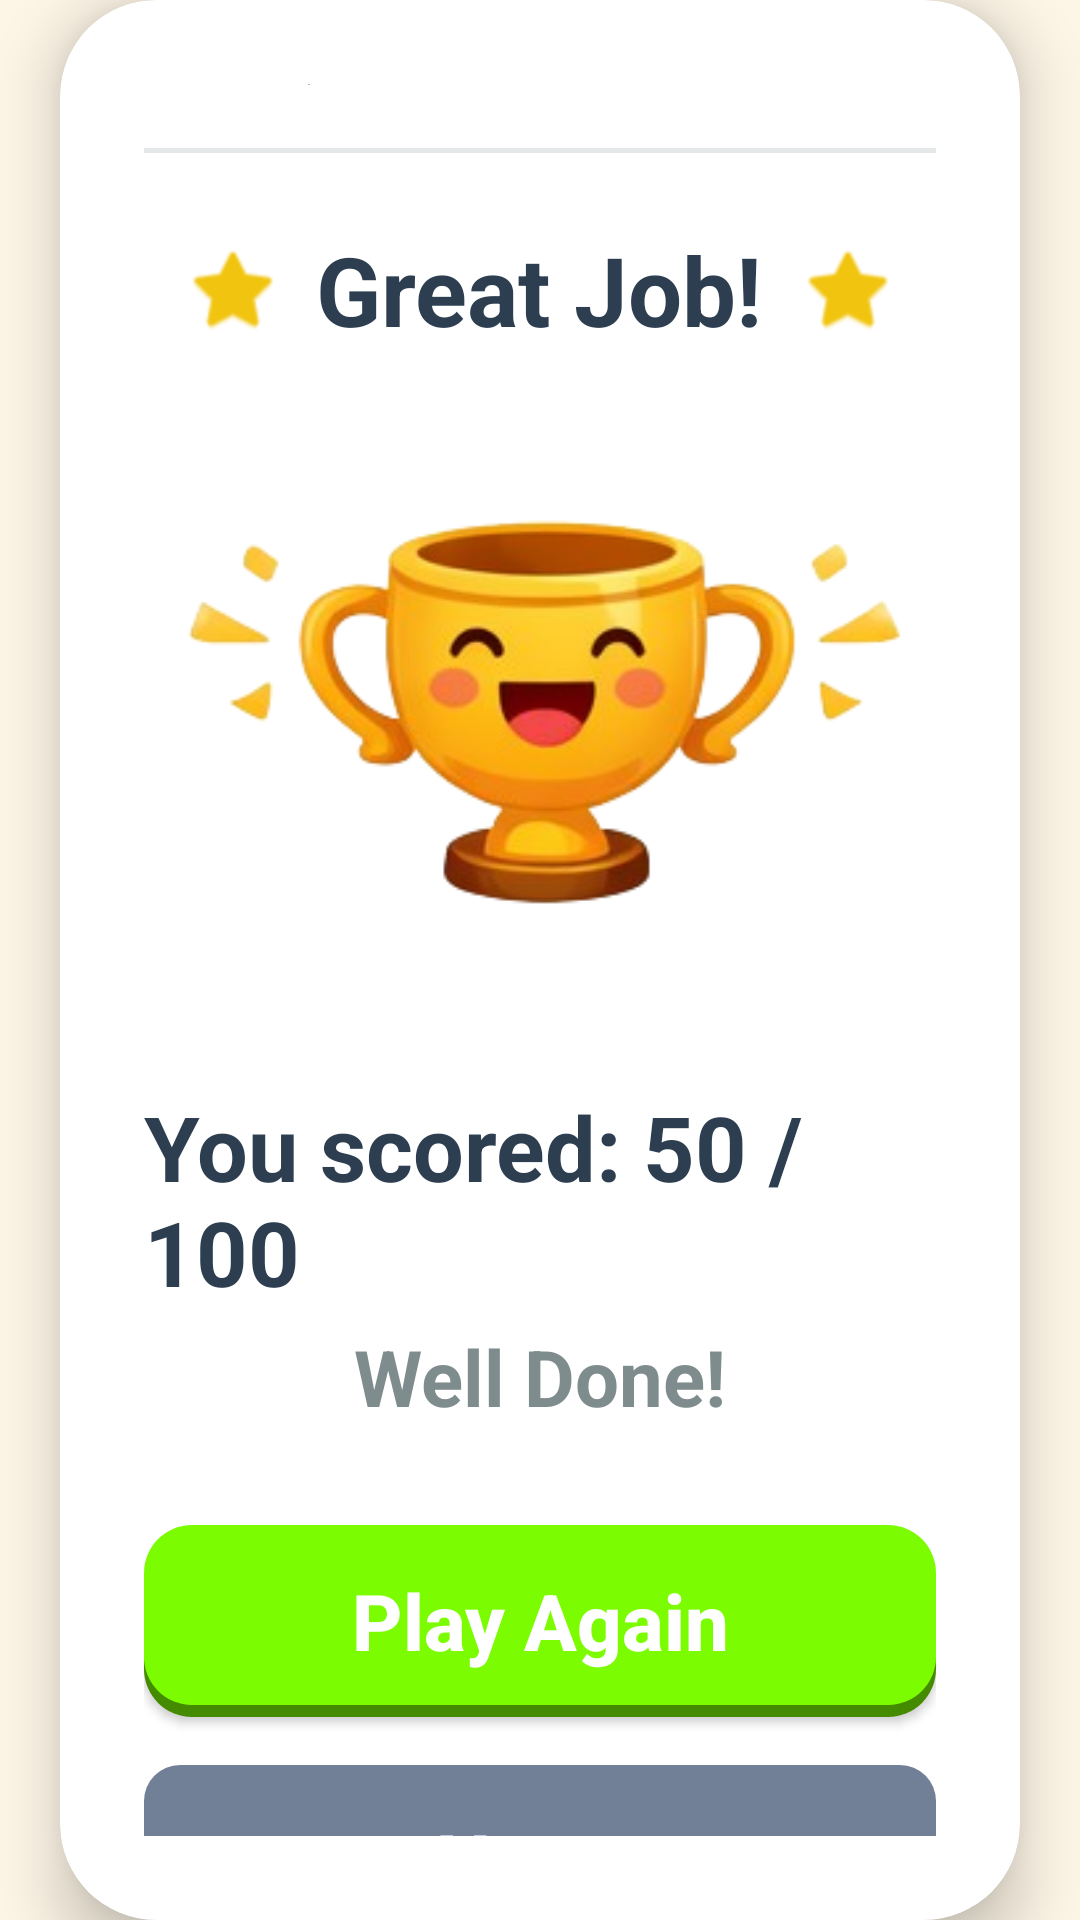

Icon bounding boxes for this 1080 x 1920 phone screenshot, format [x1, y1, x2, y2]:
star on: [193, 251, 273, 329], [808, 251, 888, 329]
